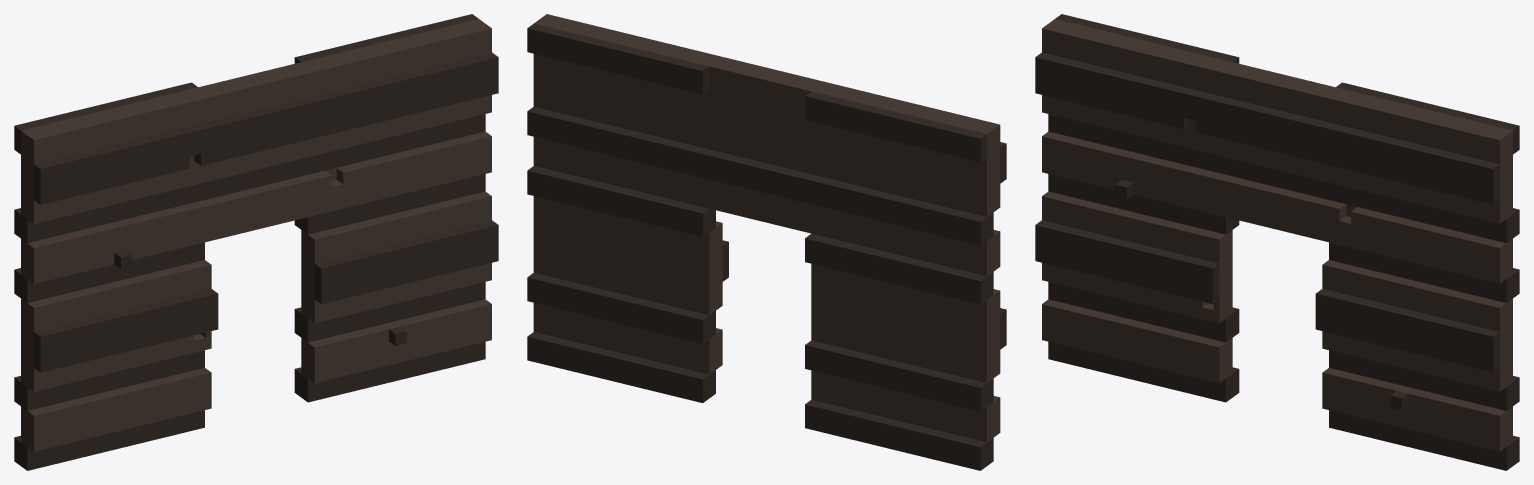
File: WallDoorway.obj
3 views of the same model, side by side, from view 1: azimuth 30°, elevation 25°; view 2: azimuth 150°, elevation 25°; view 3: azimuth 330°, elevation 25° (orthographic).
Bounding box in the file's own units: 8 × 5.6 × 0.8.
Materials: 1 (1 with a texture image).
